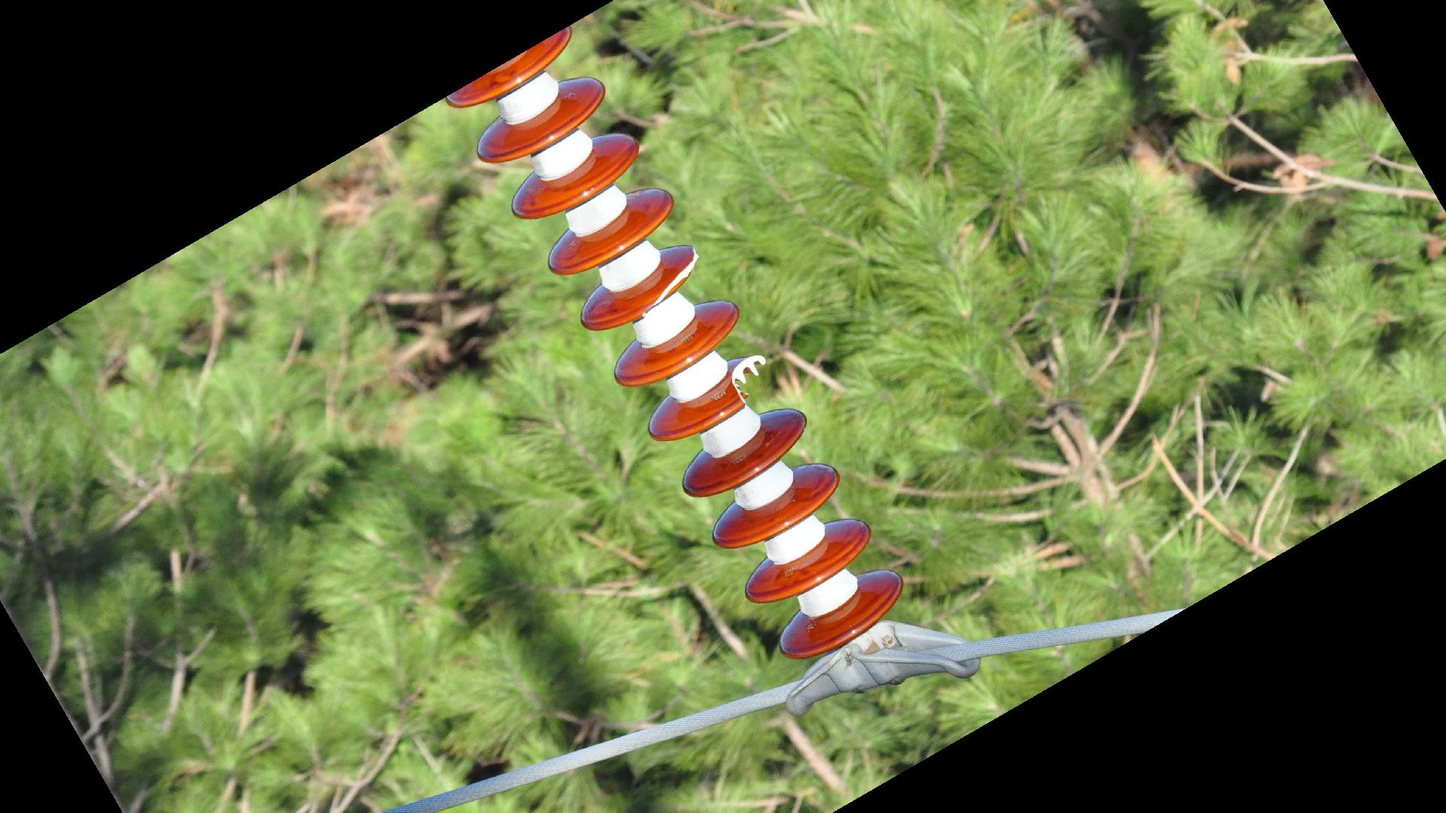insulator: (440, 24, 908, 665)
insulator_breakage: (636, 242, 700, 321), (726, 352, 770, 413)
